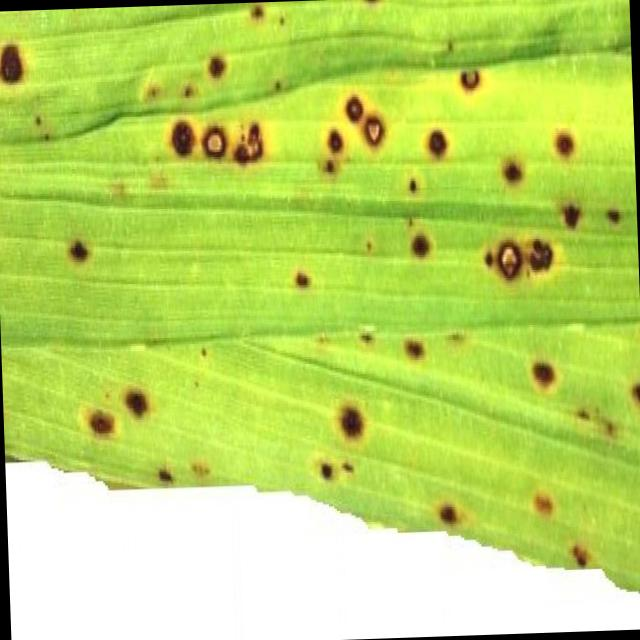Rice_Brownspot: (484, 196, 580, 283), (509, 314, 567, 402), (403, 192, 447, 291), (154, 440, 222, 496), (413, 479, 478, 536), (522, 458, 565, 542), (448, 23, 491, 105), (77, 368, 121, 448), (415, 96, 453, 180), (235, 104, 271, 189), (314, 120, 354, 193), (160, 100, 199, 173), (116, 342, 151, 418), (394, 302, 428, 377), (0, 17, 29, 104), (360, 98, 390, 180), (278, 255, 326, 305), (64, 208, 94, 282), (558, 507, 591, 572), (493, 138, 532, 192), (198, 101, 230, 164), (551, 103, 579, 169), (332, 398, 372, 442), (202, 44, 232, 102), (599, 178, 628, 224), (339, 73, 364, 124), (623, 356, 640, 429), (316, 456, 339, 504), (246, 2, 268, 48)
